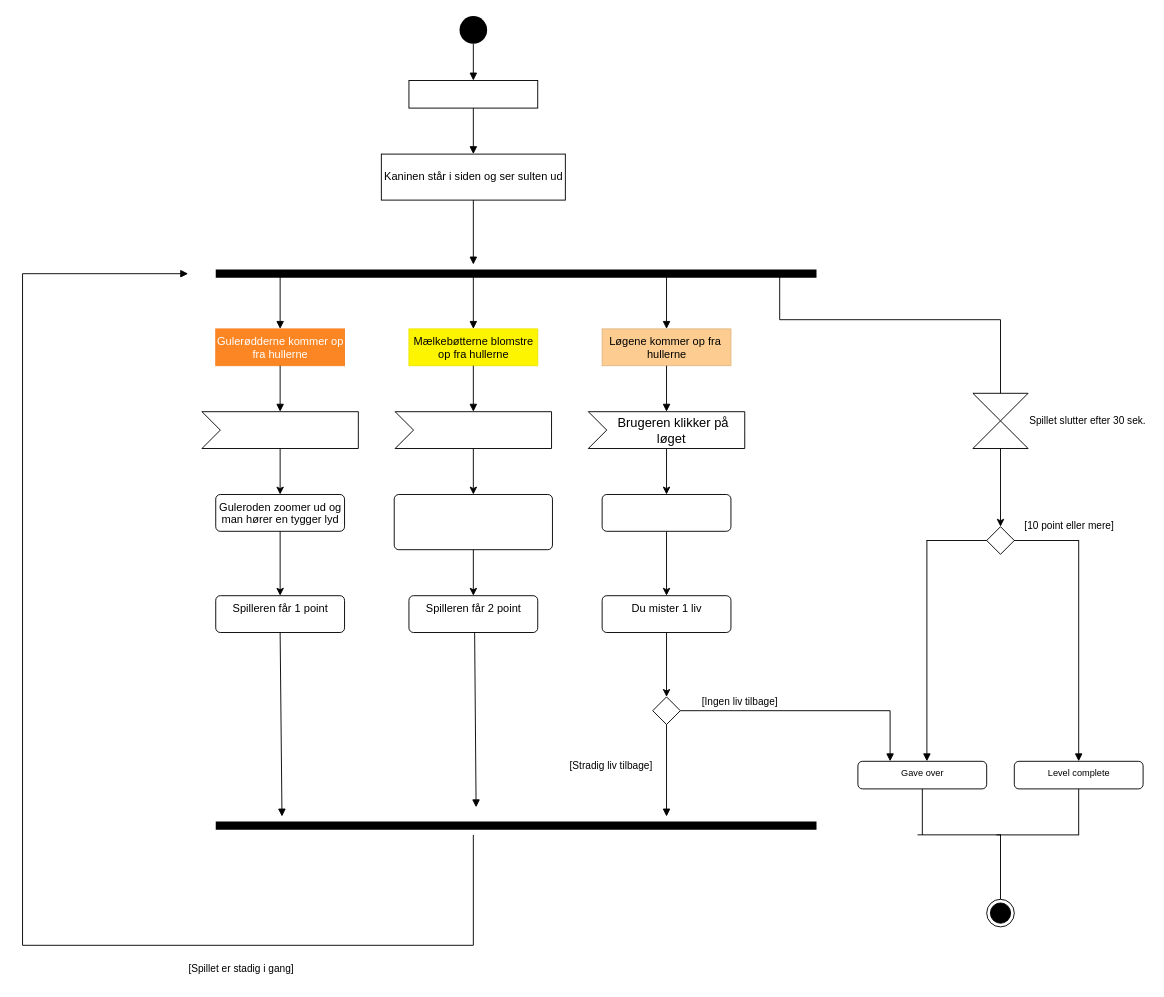
Some shapes in this 1164 by 997 pixel diagram are drawn without their labels. Here are the shapes that lost their labels. From the top down, the box of each, then its label:
(408, 80, 538, 108): Baggrundsmusik starter
(201, 411, 358, 448): Brugeren klikker på gulderoden
(394, 411, 552, 448): Brugeren klikker på mælebøtten
(393, 494, 552, 550): Mælkebøtten forstørres inden den zoomer ud og man hører en smaske/lækkert lyd
(601, 494, 731, 531): Løget glider ud og man hører en "oh no" lyd
